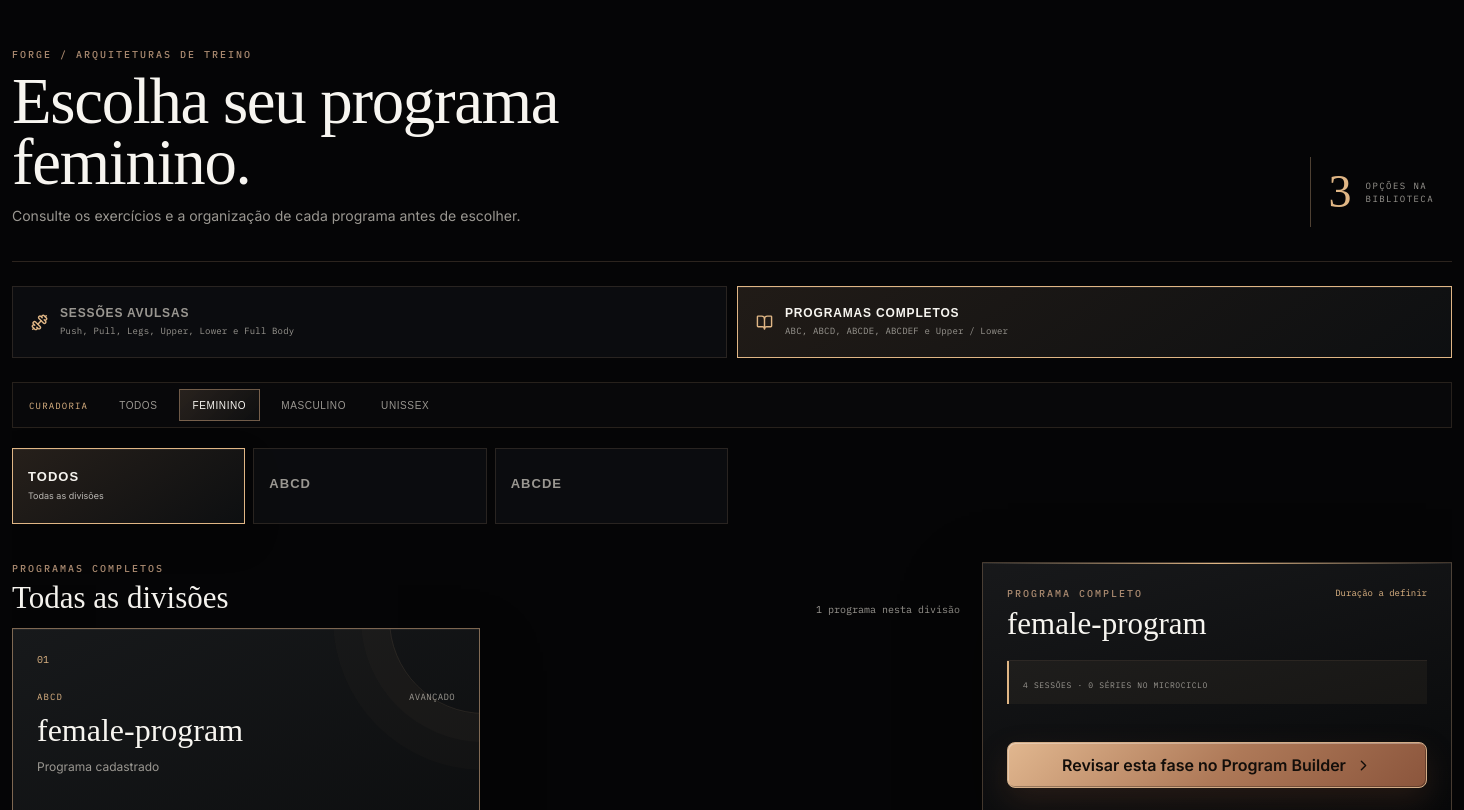
female program routing › an empty female category never shows a male preview
Click the button with test id "program-category-abcde" at (611, 486), box [495,448,728,524]
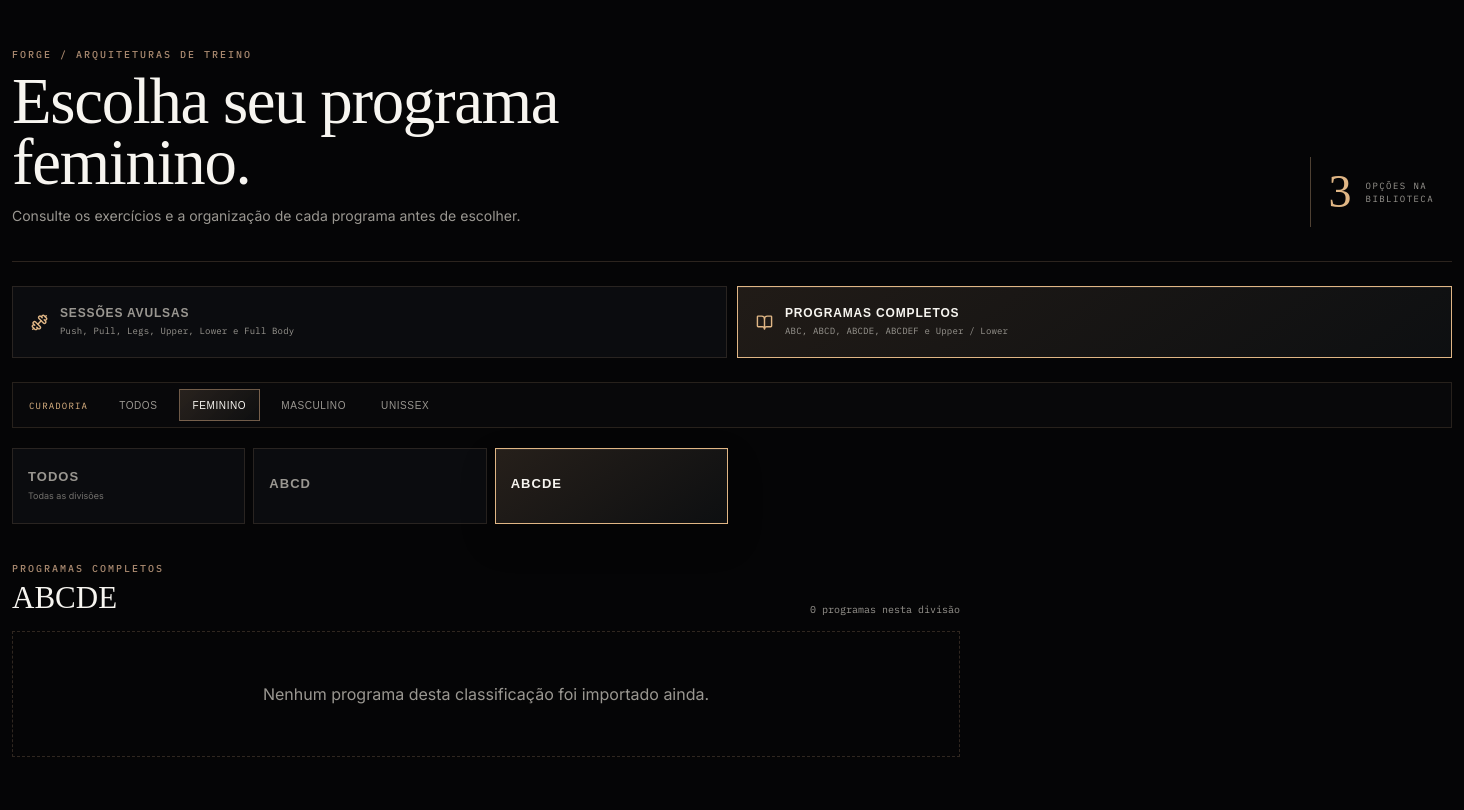
Expected: the text "male-program" is gone
